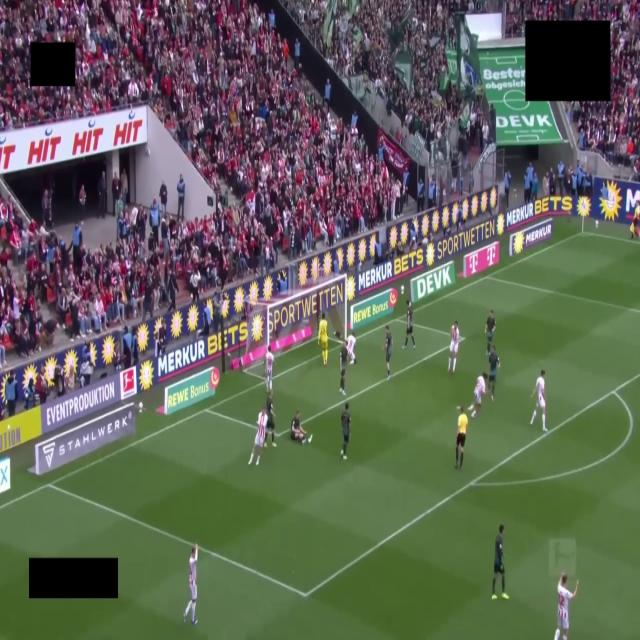player: (555, 573, 578, 639), (492, 525, 508, 599), (184, 544, 197, 624), (249, 410, 267, 465), (531, 370, 547, 431), (469, 373, 487, 417), (290, 410, 312, 444), (488, 345, 500, 400), (265, 392, 276, 447), (403, 300, 415, 349), (448, 321, 459, 373), (318, 312, 328, 367), (341, 403, 350, 460), (383, 326, 392, 380), (485, 311, 495, 355), (265, 345, 274, 393), (340, 341, 348, 395), (347, 333, 356, 364)
referee: (456, 406, 468, 469)
